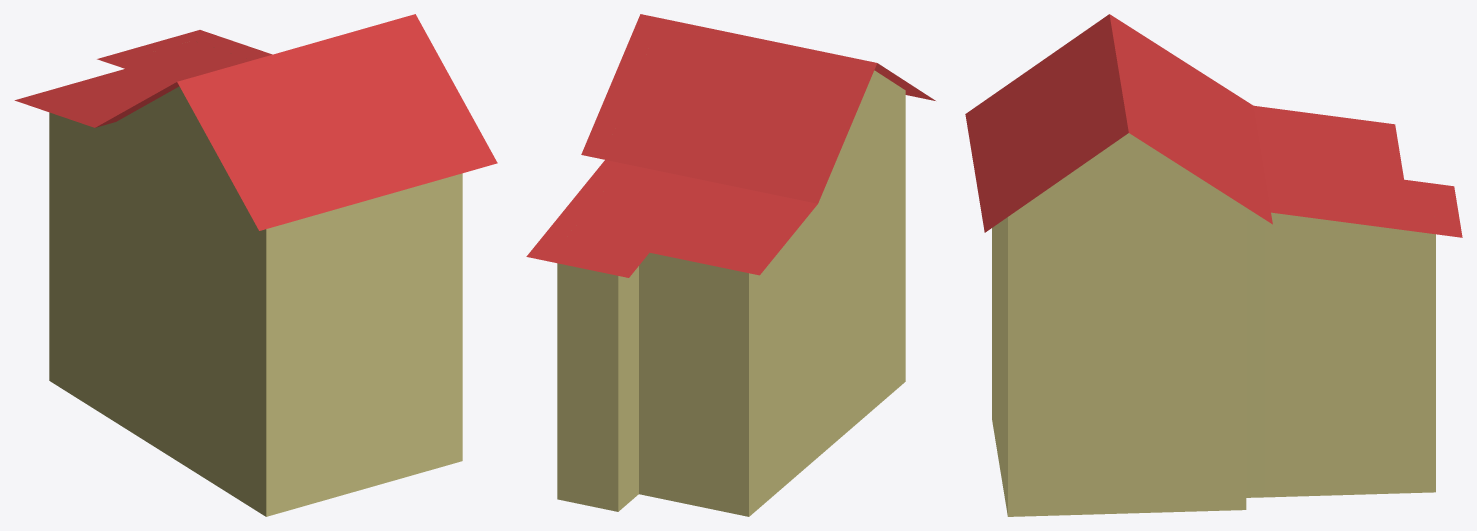
3 renders of one model, left to right at view 1: azimuth 30°, elevation 25°; view 2: azimuth 150°, elevation 25°; view 3: azimuth 270°, elevation 25°, orthographic. The views are drawn at different scales.
Size of the model in its own units: 6.24 by 9.97 by 8.65.
